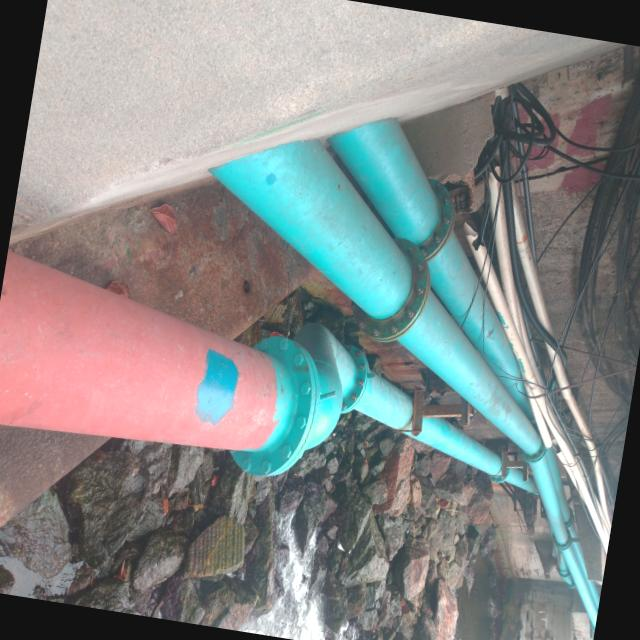gas: (208, 133, 598, 630), (0, 252, 532, 492), (328, 116, 523, 409)
